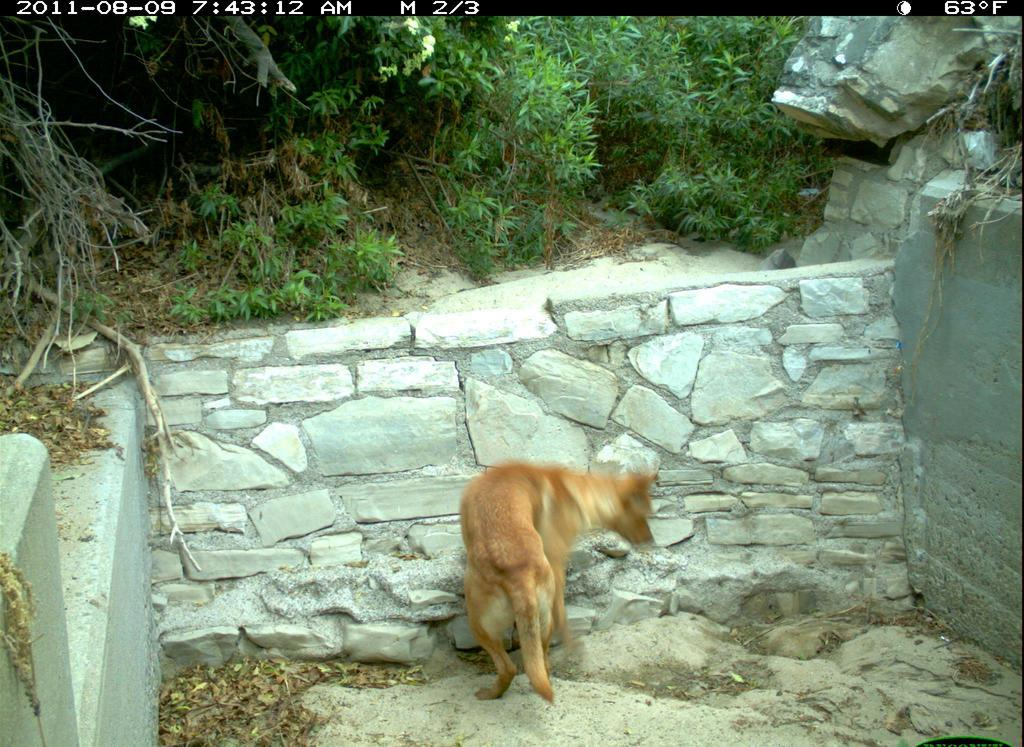dog: (454, 433, 670, 722)
